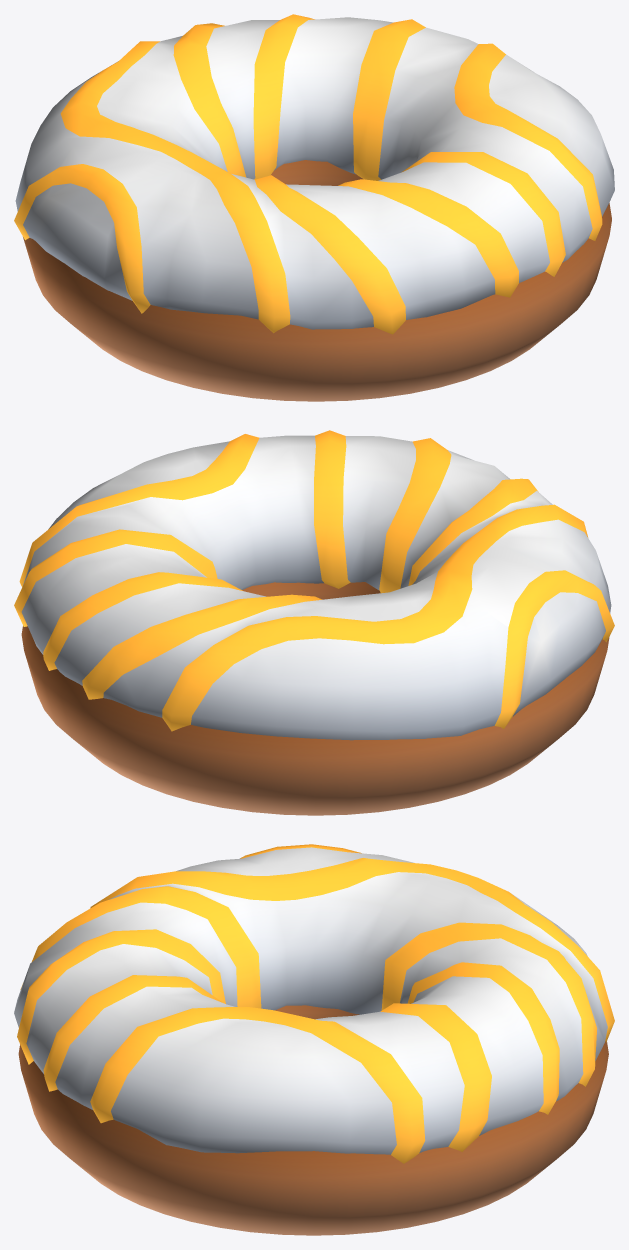
Rendered from Donut_01.glb.
The picture shows the model from 3 angles, top to bottom: view 1: azimuth 30°, elevation 25°; view 2: azimuth 150°, elevation 25°; view 3: azimuth 270°, elevation 25°; orthographic projection.
Parts seen in each view (by area): view 1: Donut_01; view 2: Donut_01; view 3: Donut_01.
Boxes of the visible parts, x1,y1,x2,y2 form: Donut_01: (14, 14, 614, 401); Donut_01: (14, 430, 614, 815); Donut_01: (14, 844, 614, 1235).
Bounding box in the file's own units: 10.69 × 4.08 × 10.84.
Materials: 2 (2 with a texture image).
